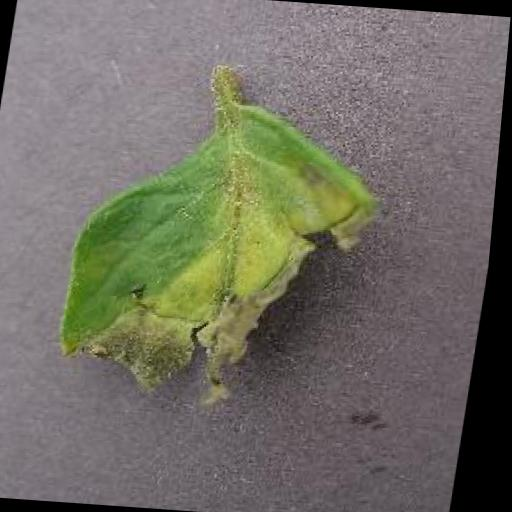Late Blight: (54, 93, 407, 418)
